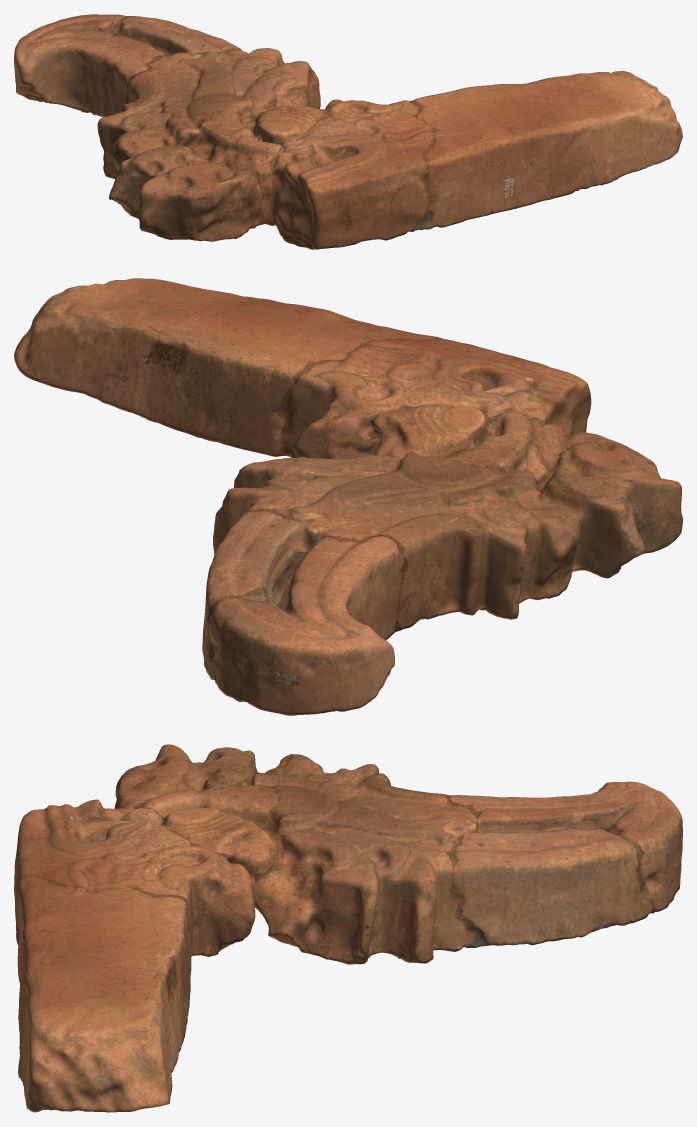
File: MysonMuseum_makara.glb
3 renders of one model, top to bottom at view 1: azimuth 30°, elevation 25°; view 2: azimuth 150°, elevation 25°; view 3: azimuth 270°, elevation 25°, orthographic. The views are drawn at different scales.
Parts seen in each view (by area): view 1: remesk; view 2: remesk; view 3: remesk.
Boxes of the visible parts, x1,y1,x2,y2 form: remesk: (14, 14, 682, 249); remesk: (14, 278, 682, 715); remesk: (14, 744, 682, 1112).
Size of the model in its own units: 0.649 by 0.0963 by 0.5648.
1 material, 1 textured.
